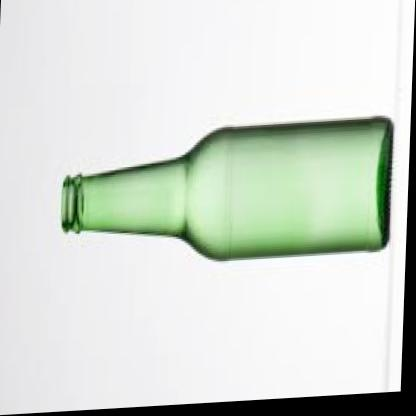trash: (61, 118, 392, 259)
